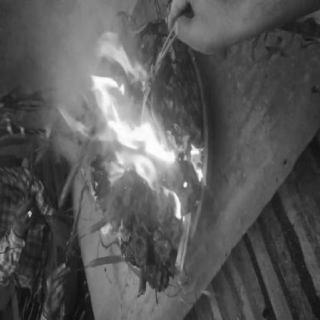other: (96, 200, 130, 246), (151, 227, 163, 245)
